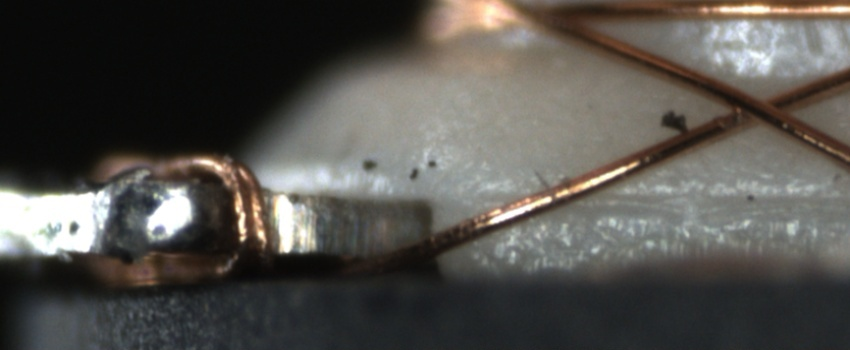CL: (710, 81, 805, 137)
DL: (491, 168, 850, 229)
TE: (94, 145, 274, 282)
